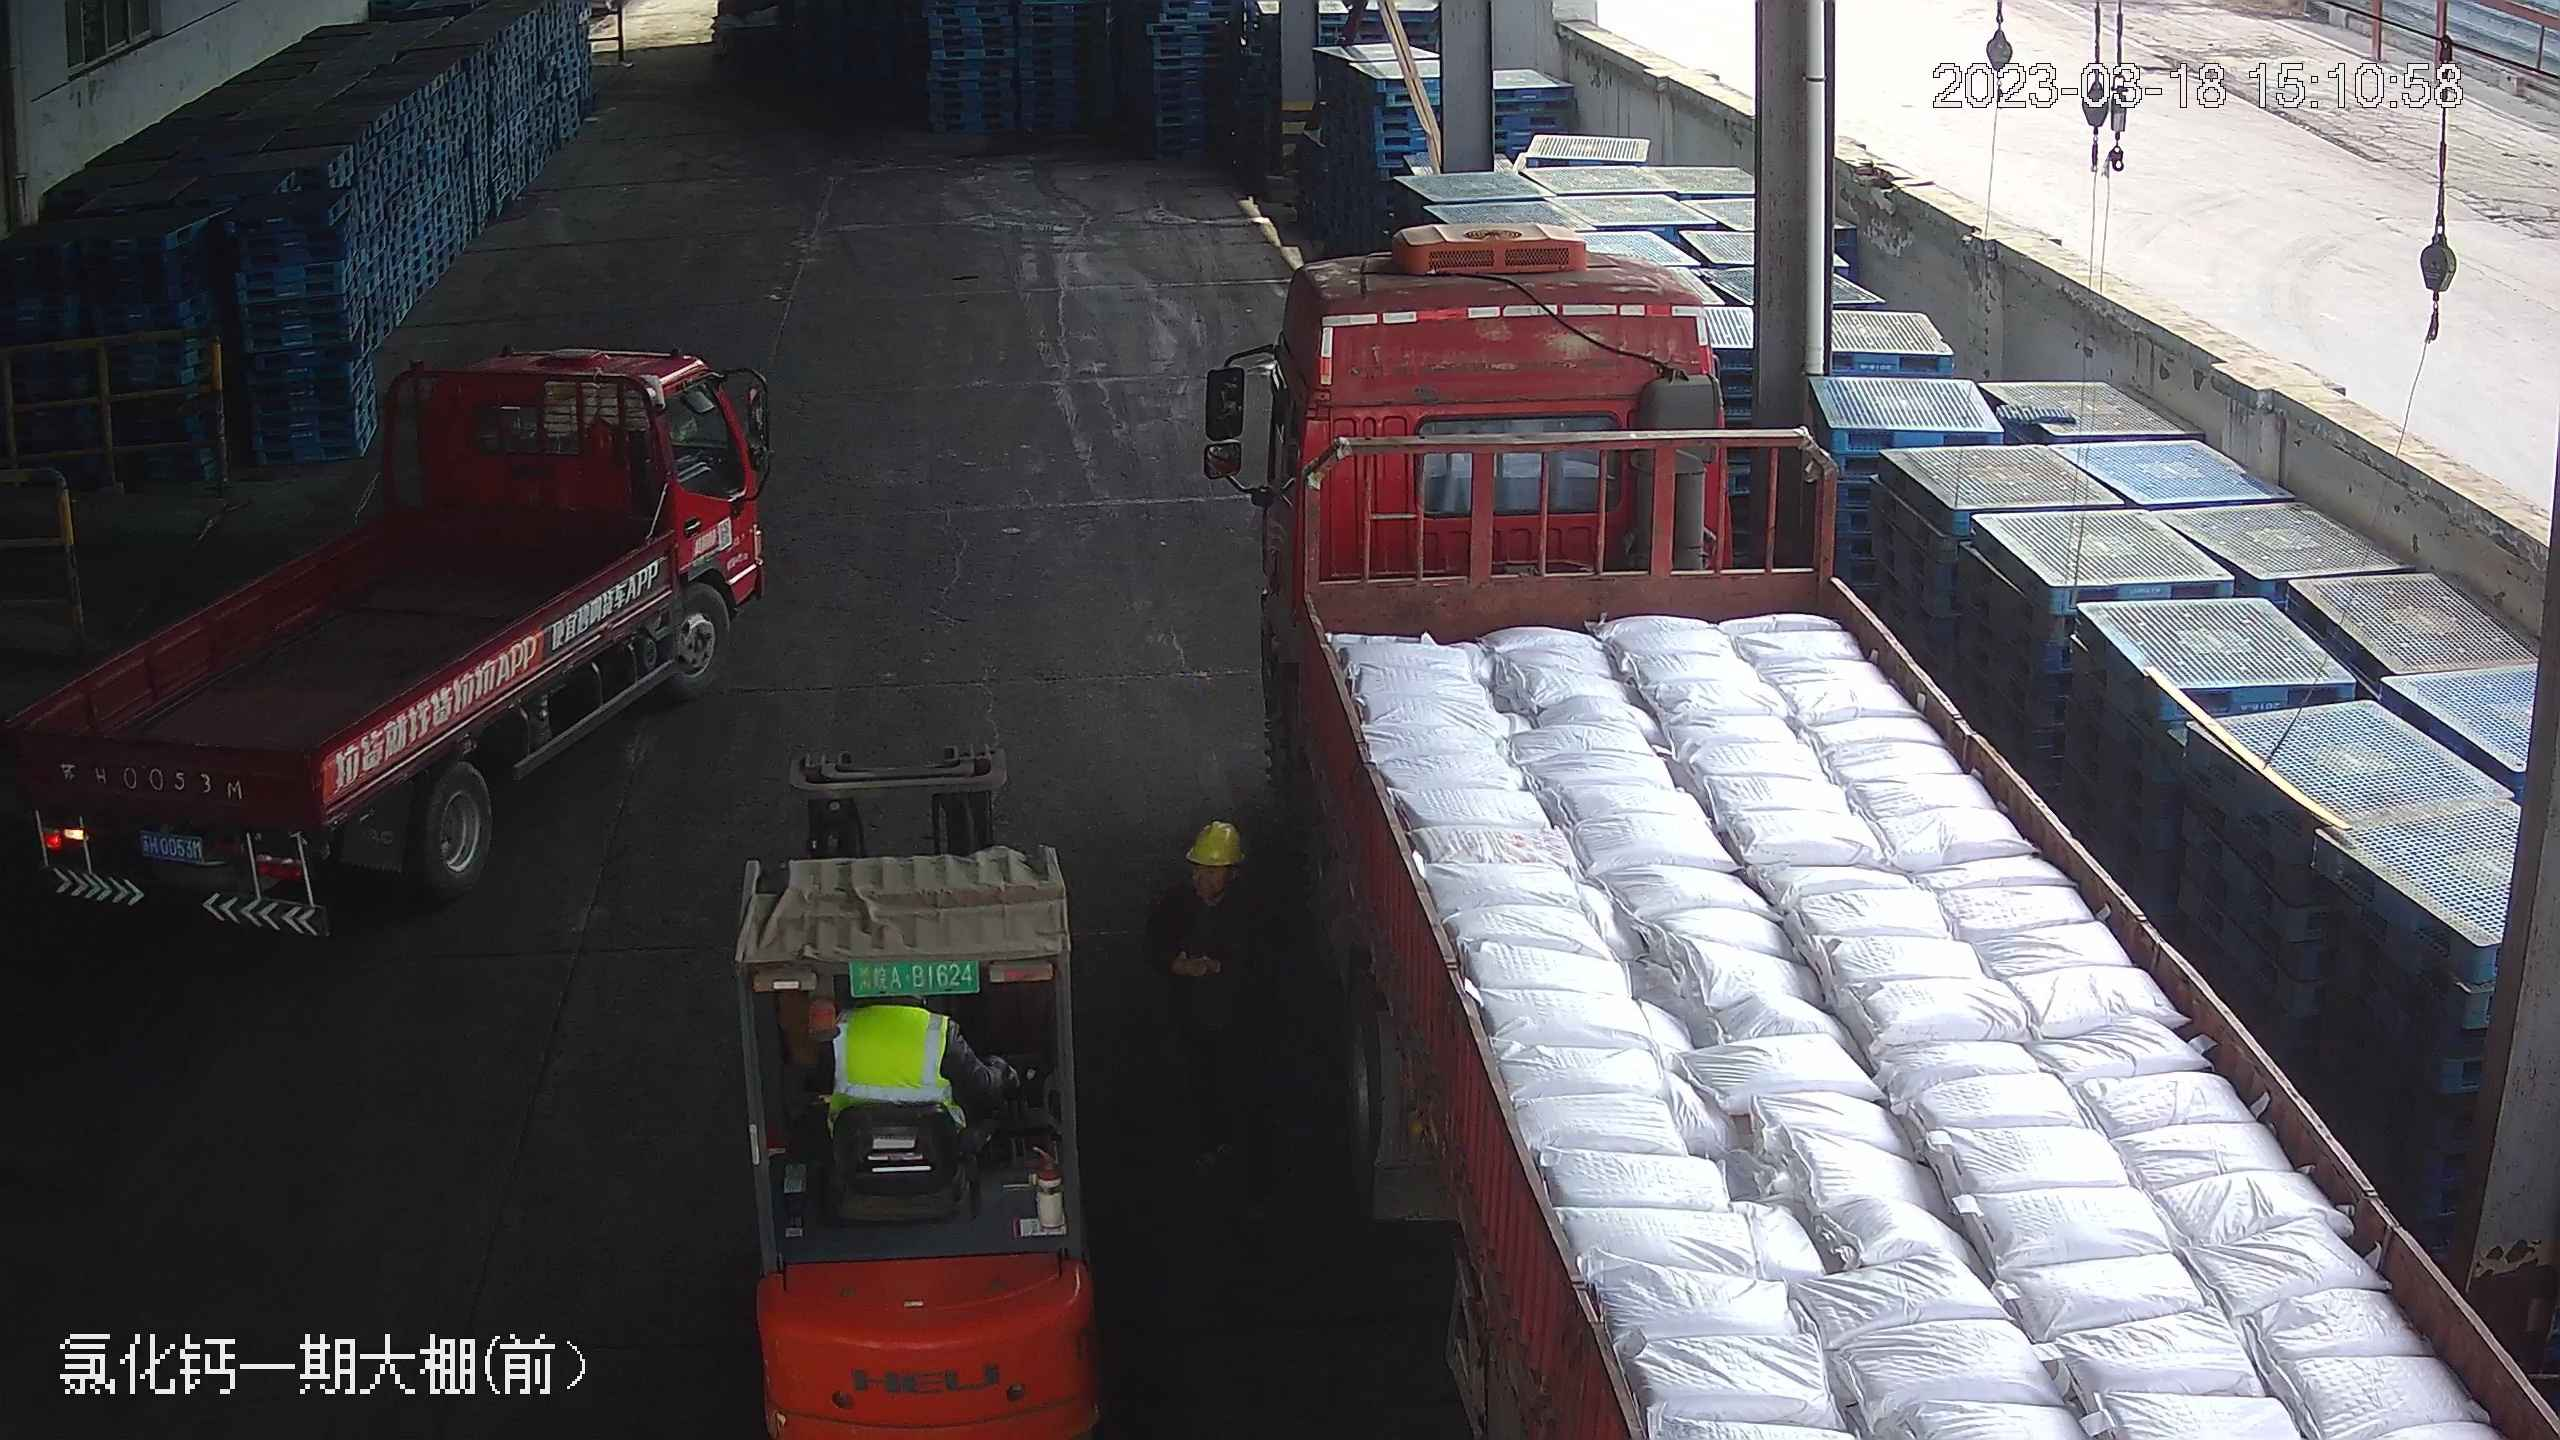head: (1149, 819, 1259, 949)
helmet: (1185, 818, 1247, 864)
people: (1144, 818, 1270, 1180)
truck: (1216, 209, 2543, 1440), (50, 342, 768, 948)
